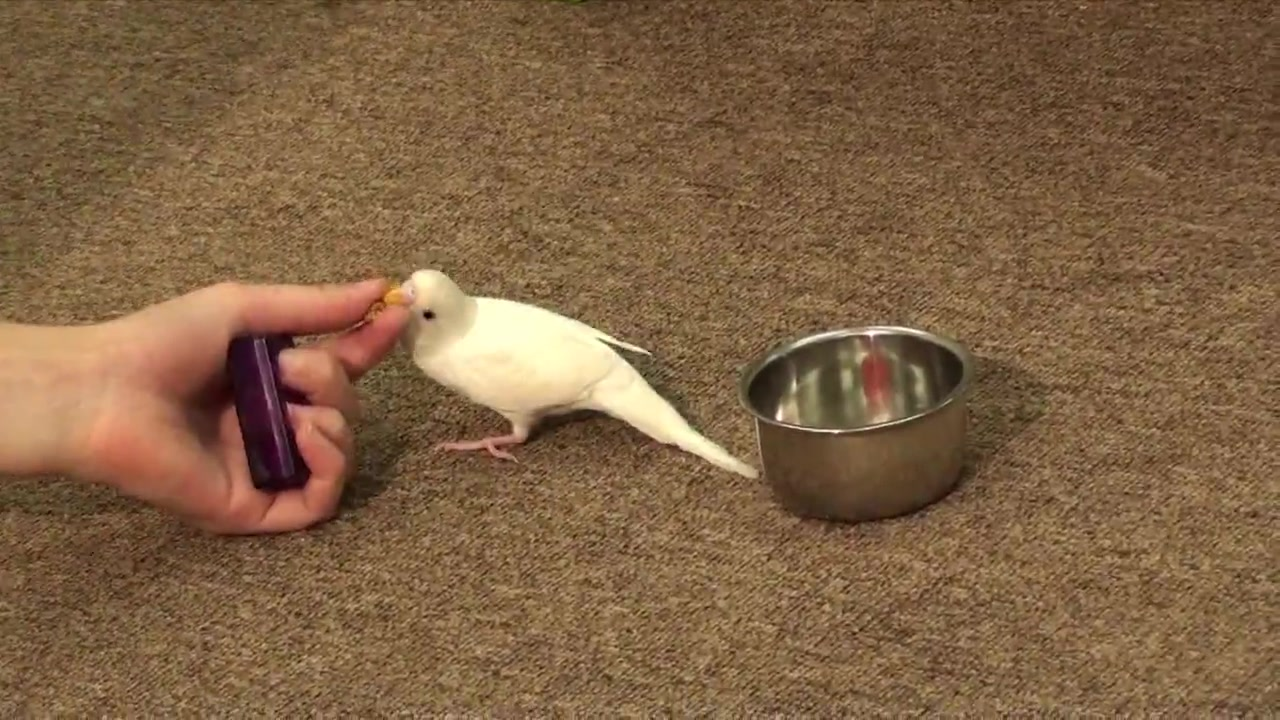bird: (385, 269, 762, 484)
